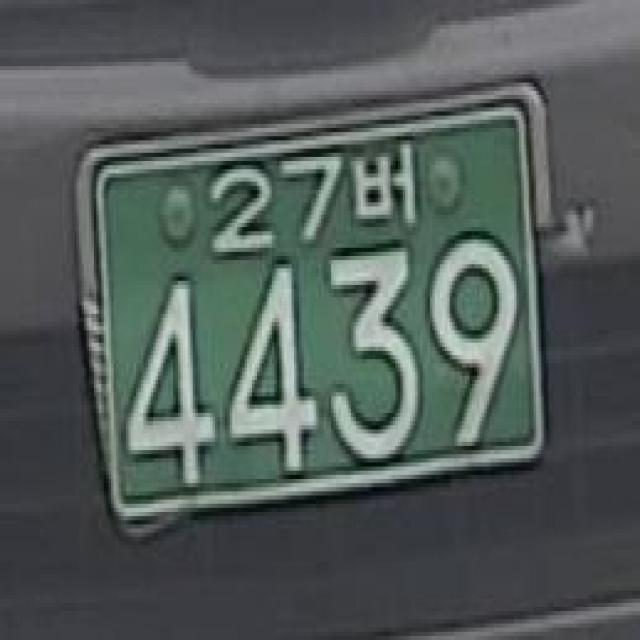illegal_plate: (75, 83, 567, 545)
